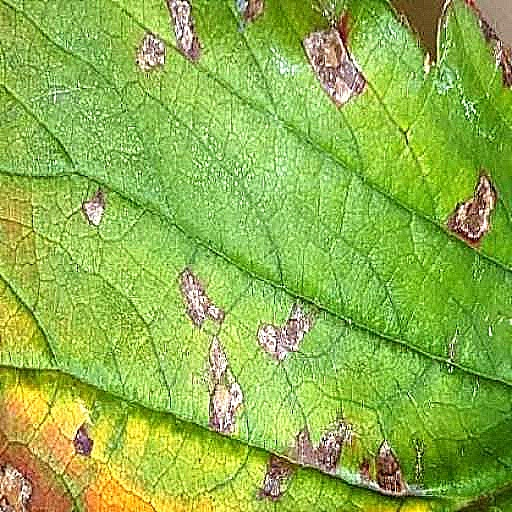Angular Leafspot: (0, 0, 511, 511)
